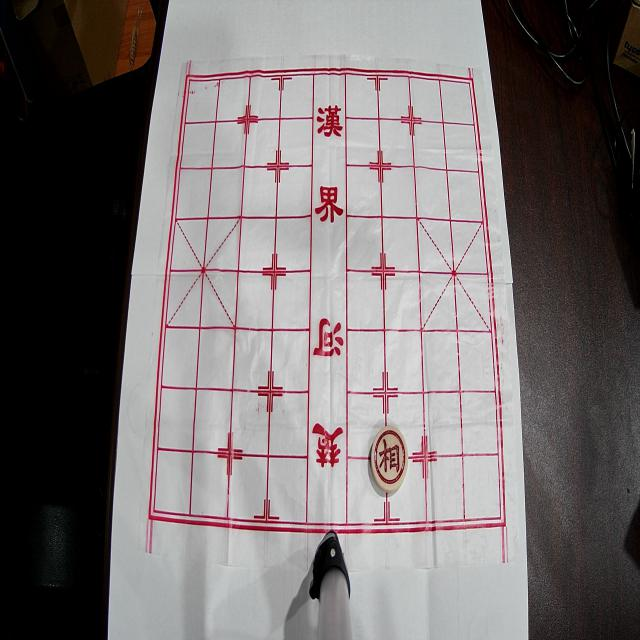red-elephant: (371, 426, 408, 492)
